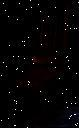Silla: (1, 0, 79, 127)
